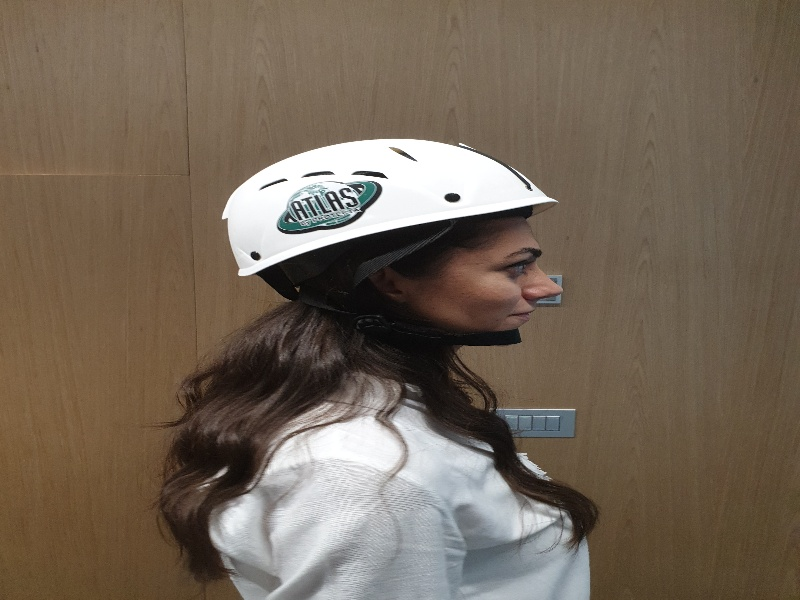Baret: (221, 136, 561, 272)
